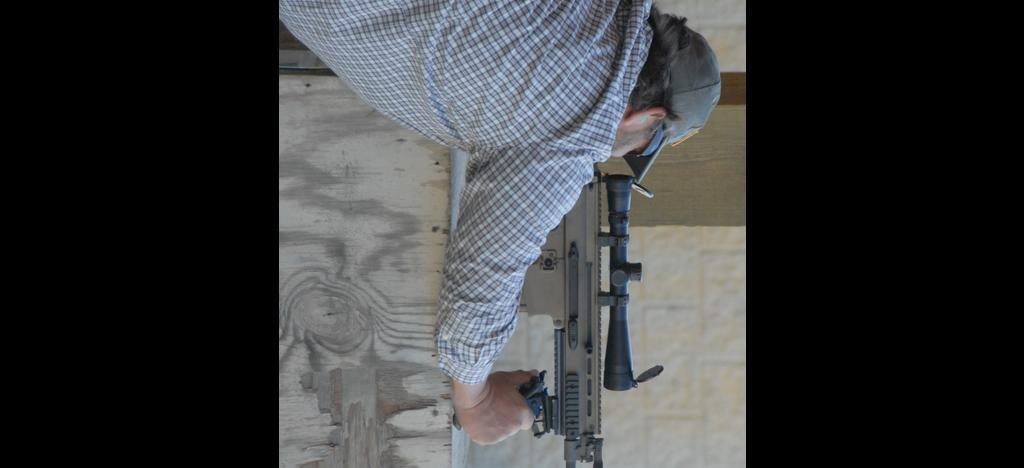gun: (548, 176, 635, 468)
